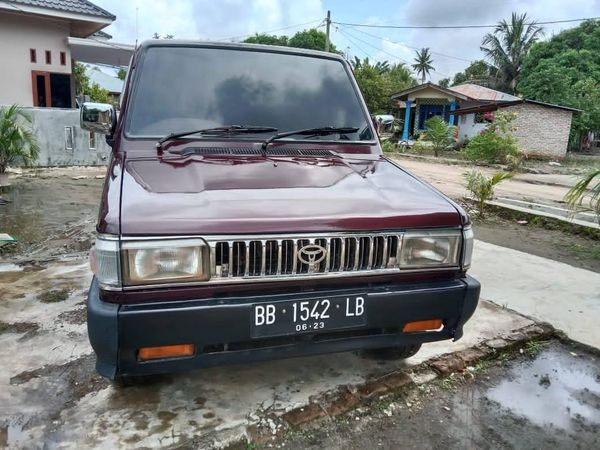plate: (245, 297, 371, 334)
